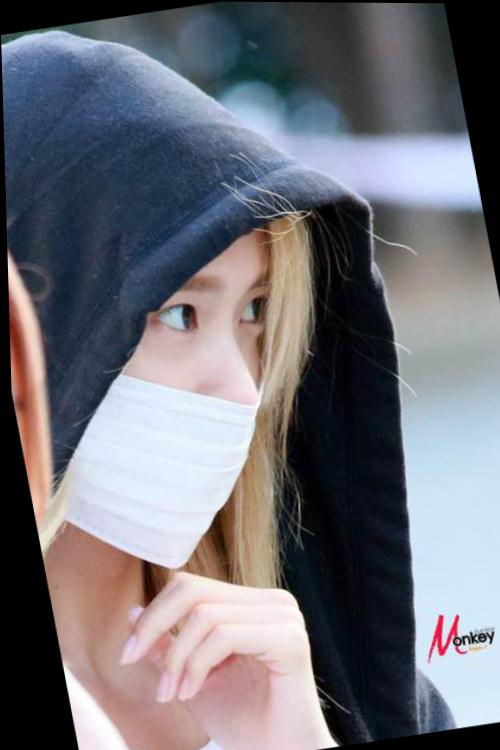WRONG: (20, 238, 325, 573)
